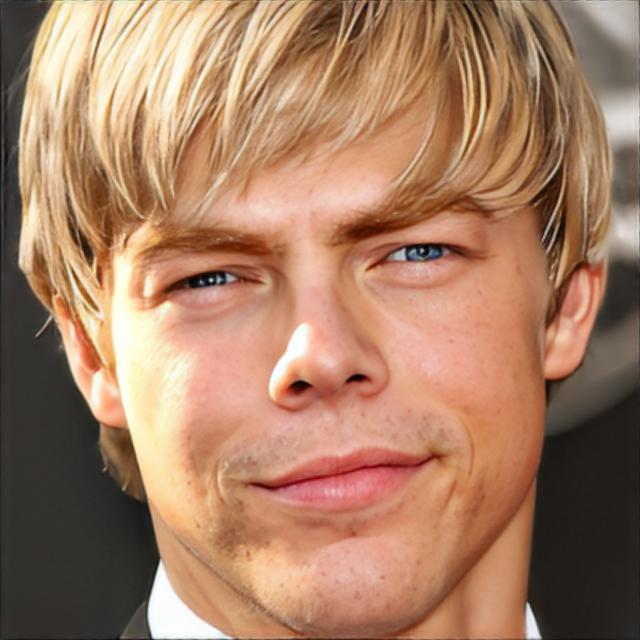content: (110, 40, 551, 640)
